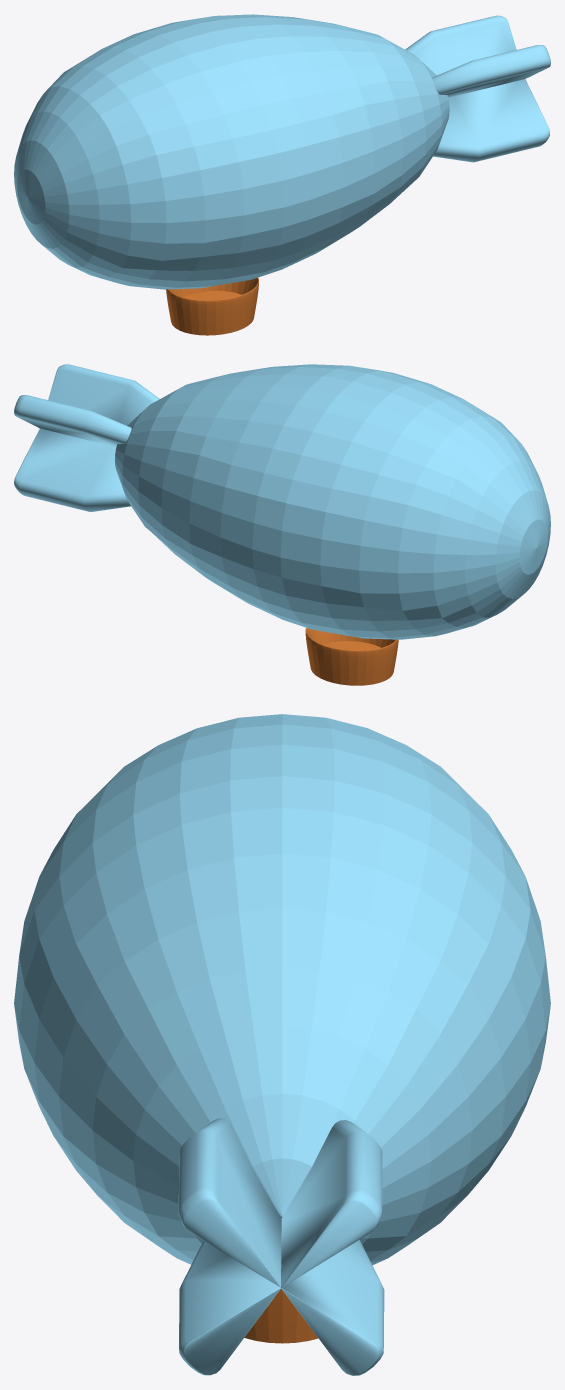
3 renders of one model, top to bottom at view 1: azimuth 30°, elevation 25°; view 2: azimuth 150°, elevation 25°; view 3: azimuth 270°, elevation 25°, orthographic. The views are drawn at different scales.
Parts seen in each view (by area): view 1: Sphere, Cylinder.001, Cylinder; view 2: Sphere, Cylinder.001, Cylinder; view 3: Sphere, Cylinder.001, Cylinder.
Part boxes in pixels (box(x1,y1,x2,y2)): Sphere: box(14, 14, 449, 289); Cylinder.001: box(405, 15, 550, 162); Cylinder: box(166, 277, 258, 335); Sphere: box(115, 364, 550, 639); Cylinder.001: box(14, 364, 159, 511); Cylinder: box(305, 628, 398, 685); Sphere: box(14, 714, 550, 1265); Cylinder.001: box(178, 1118, 384, 1375); Cylinder: box(244, 1288, 318, 1343).
Size of the model in its own units: 396 by 219 by 200.
